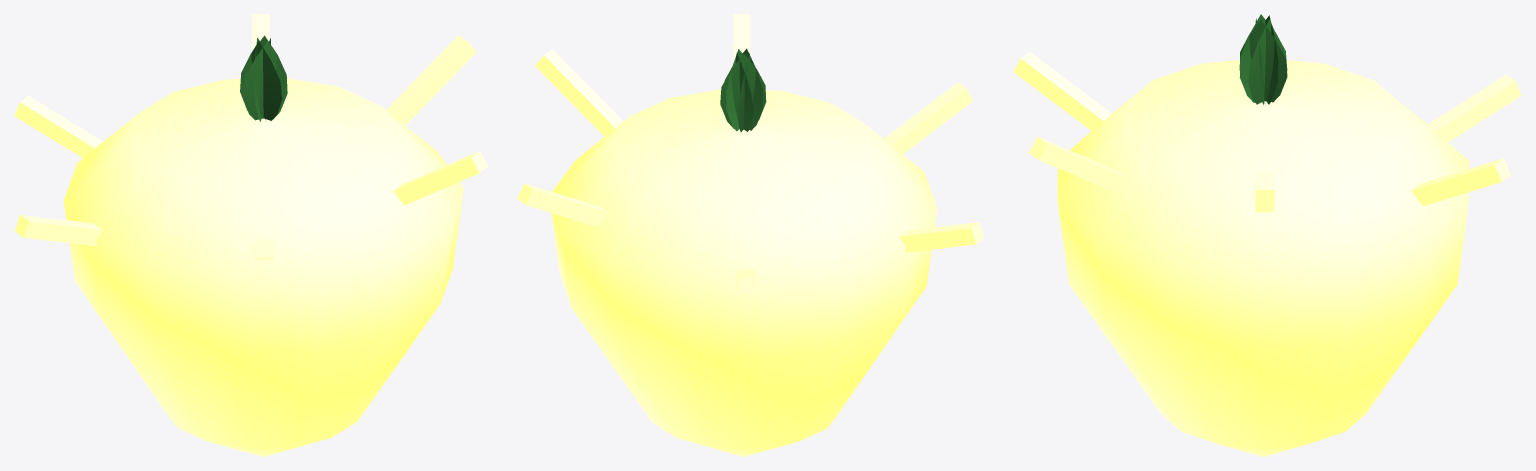
File: fruit-cactus-shocked.gltf
3 views of the same model, side by side, from view 1: azimuth 30°, elevation 25°; view 2: azimuth 150°, elevation 25°; view 3: azimuth 270°, elevation 25° (orthographic). The views are drawn at different scales.
Bounding box in the file's own units: 0.47 × 0.4142 × 0.4337.
